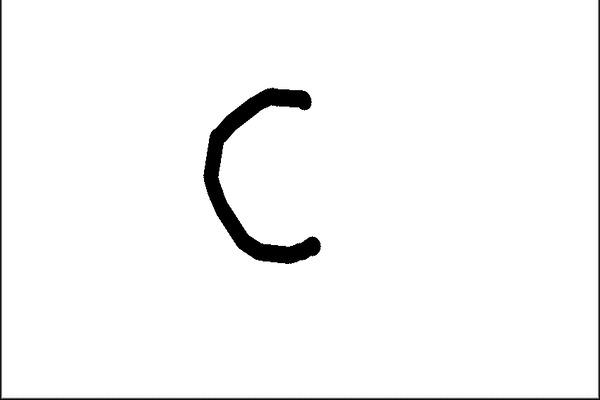C: (199, 82, 323, 265)
